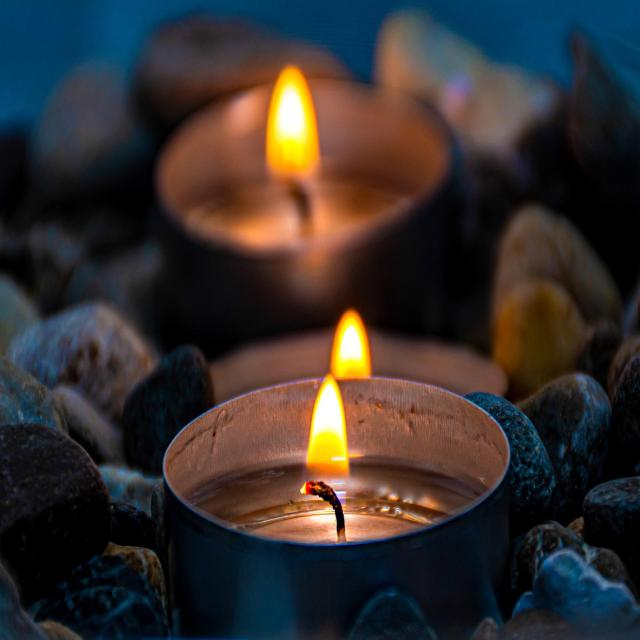Fire_Save: (166, 327, 527, 598), (264, 63, 320, 181)
